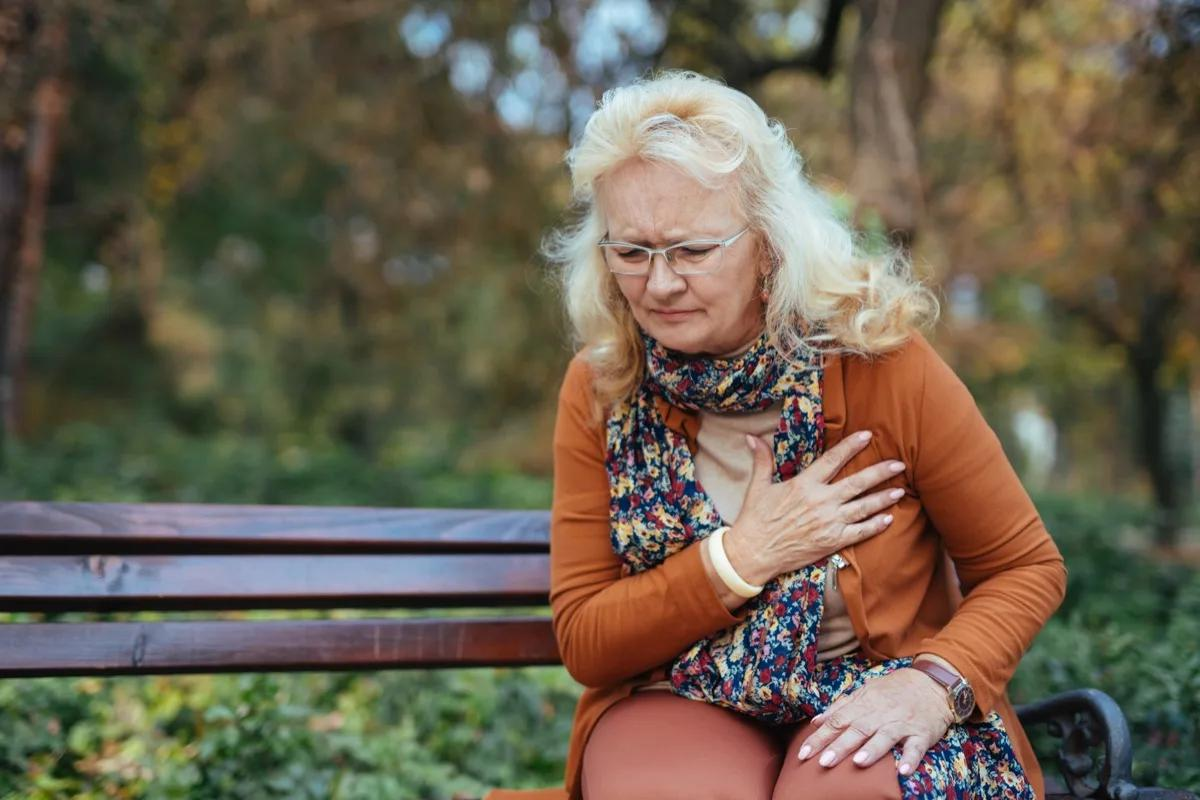pain: (589, 216, 740, 284)
